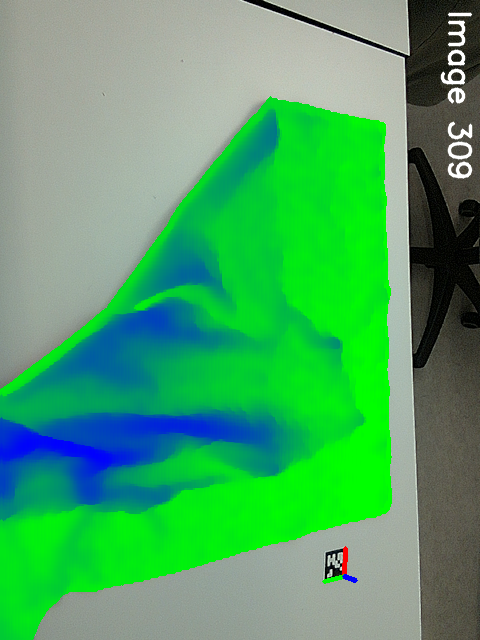V: (333, 389, 379, 441)
